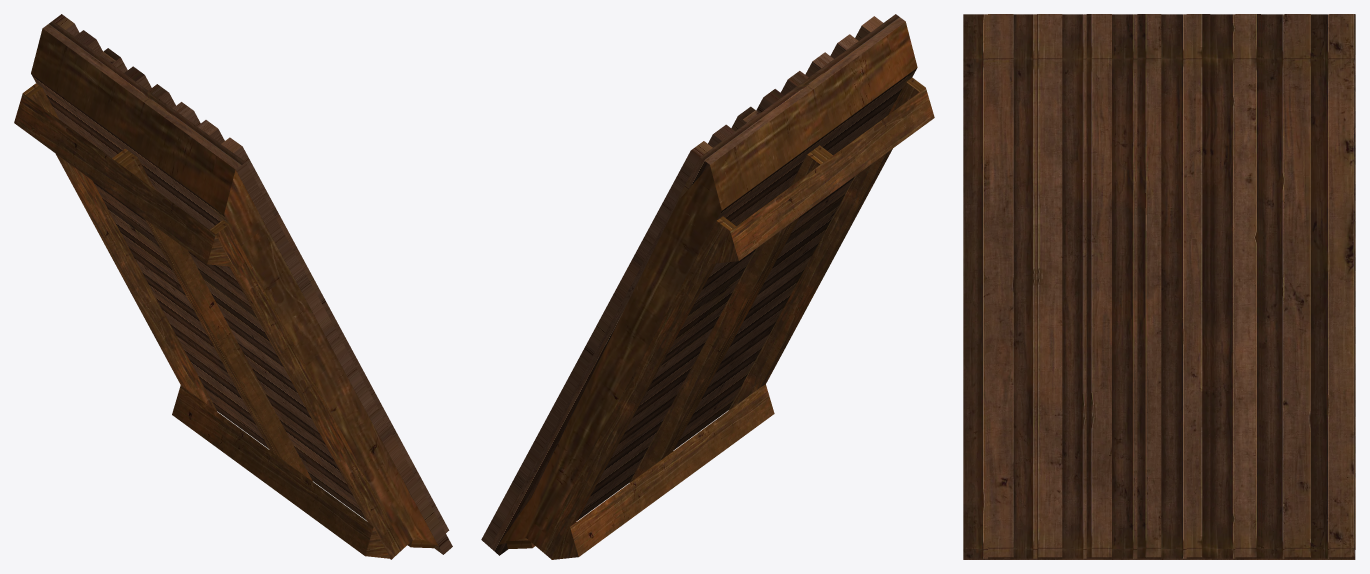
3 renders of one model, left to right at view 1: azimuth 30°, elevation 25°; view 2: azimuth 150°, elevation 25°; view 3: azimuth 270°, elevation 25°, orthographic.
Parts seen in each view (by area): view 1: SM_BB_T2_Roof_Large_Steep_LOD0; view 2: SM_BB_T2_Roof_Large_Steep_LOD0; view 3: SM_BB_T2_Roof_Large_Steep_LOD0.
Boxes of the visible parts, <box> form: SM_BB_T2_Roof_Large_Steep_LOD0: <box>14,14,452,559</box>; SM_BB_T2_Roof_Large_Steep_LOD0: <box>481,14,934,559</box>; SM_BB_T2_Roof_Large_Steep_LOD0: <box>963,14,1355,559</box>.
Size of the model in its own units: 2.28 by 3.82 by 3.
2 materials, 2 textured.
